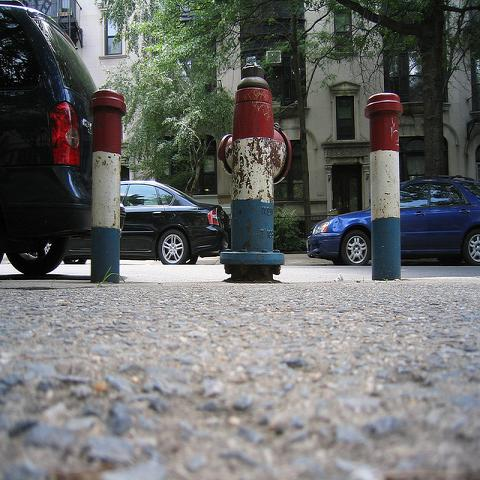car: (0, 2, 98, 277), (305, 174, 480, 266), (120, 180, 229, 265)
